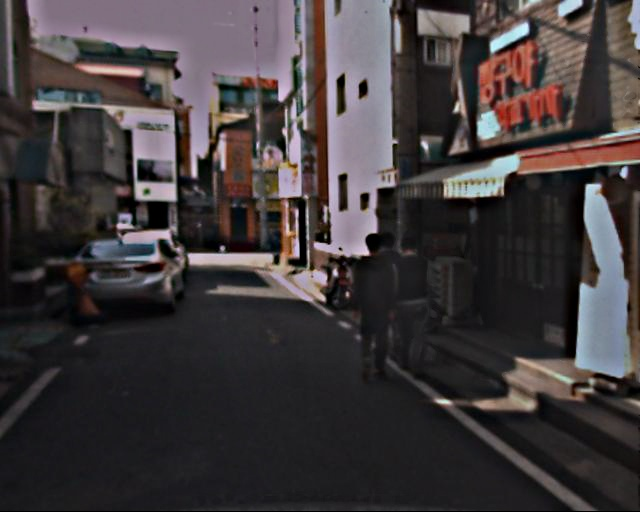person: (343, 235, 403, 381), (380, 236, 438, 378), (364, 231, 418, 363)
